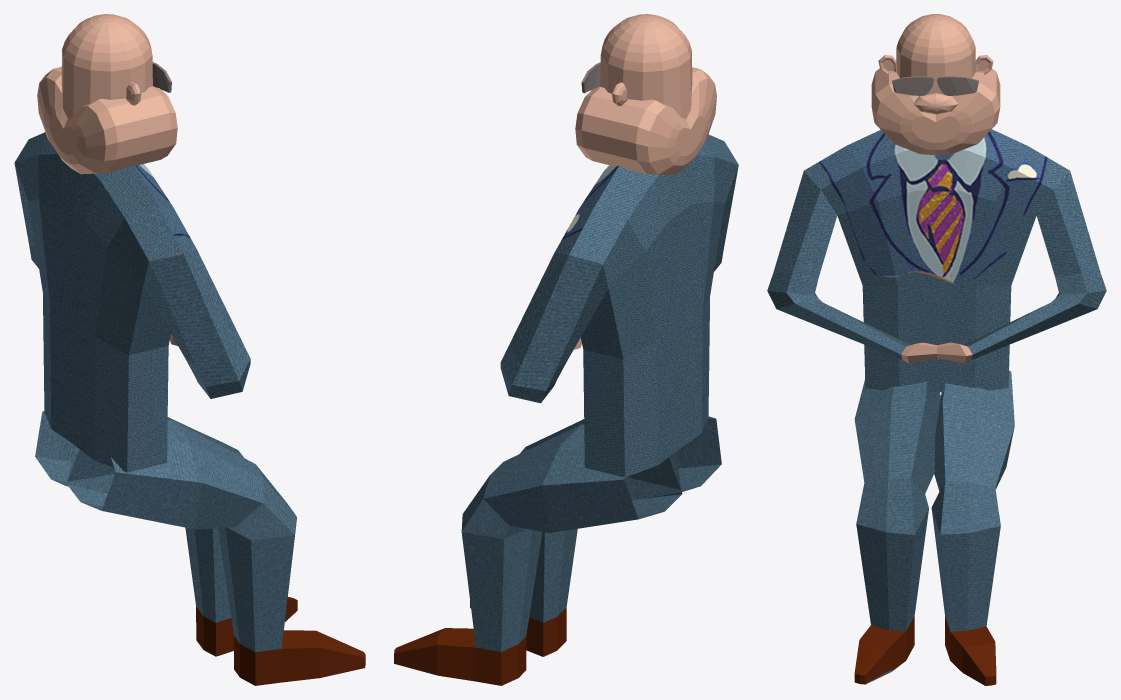
File: ALBERT_0.3.fbx
3 renders of one model, left to right at view 1: azimuth 30°, elevation 25°; view 2: azimuth 150°, elevation 25°; view 3: azimuth 270°, elevation 25°, orthographic. The views are drawn at different scales.
Visible parts, largest first — view 1: CUERPO; view 2: CUERPO; view 3: CUERPO.
Part boxes in pixels (box(x1,y1,x2,y2)): CUERPO: box(14, 14, 365, 685); CUERPO: box(394, 14, 738, 685); CUERPO: box(767, 14, 1106, 685).
Size of the model in its own units: 63.61 by 82.37 by 155.
